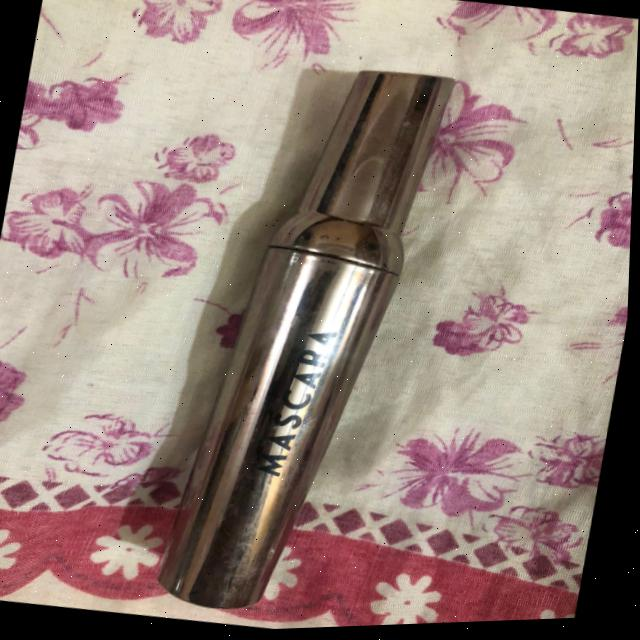mascara: (150, 26, 475, 631)
